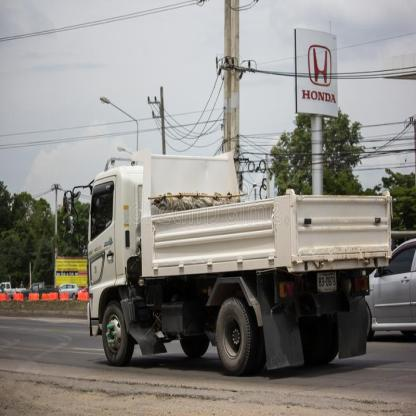dump_truck: (74, 137, 396, 381)
